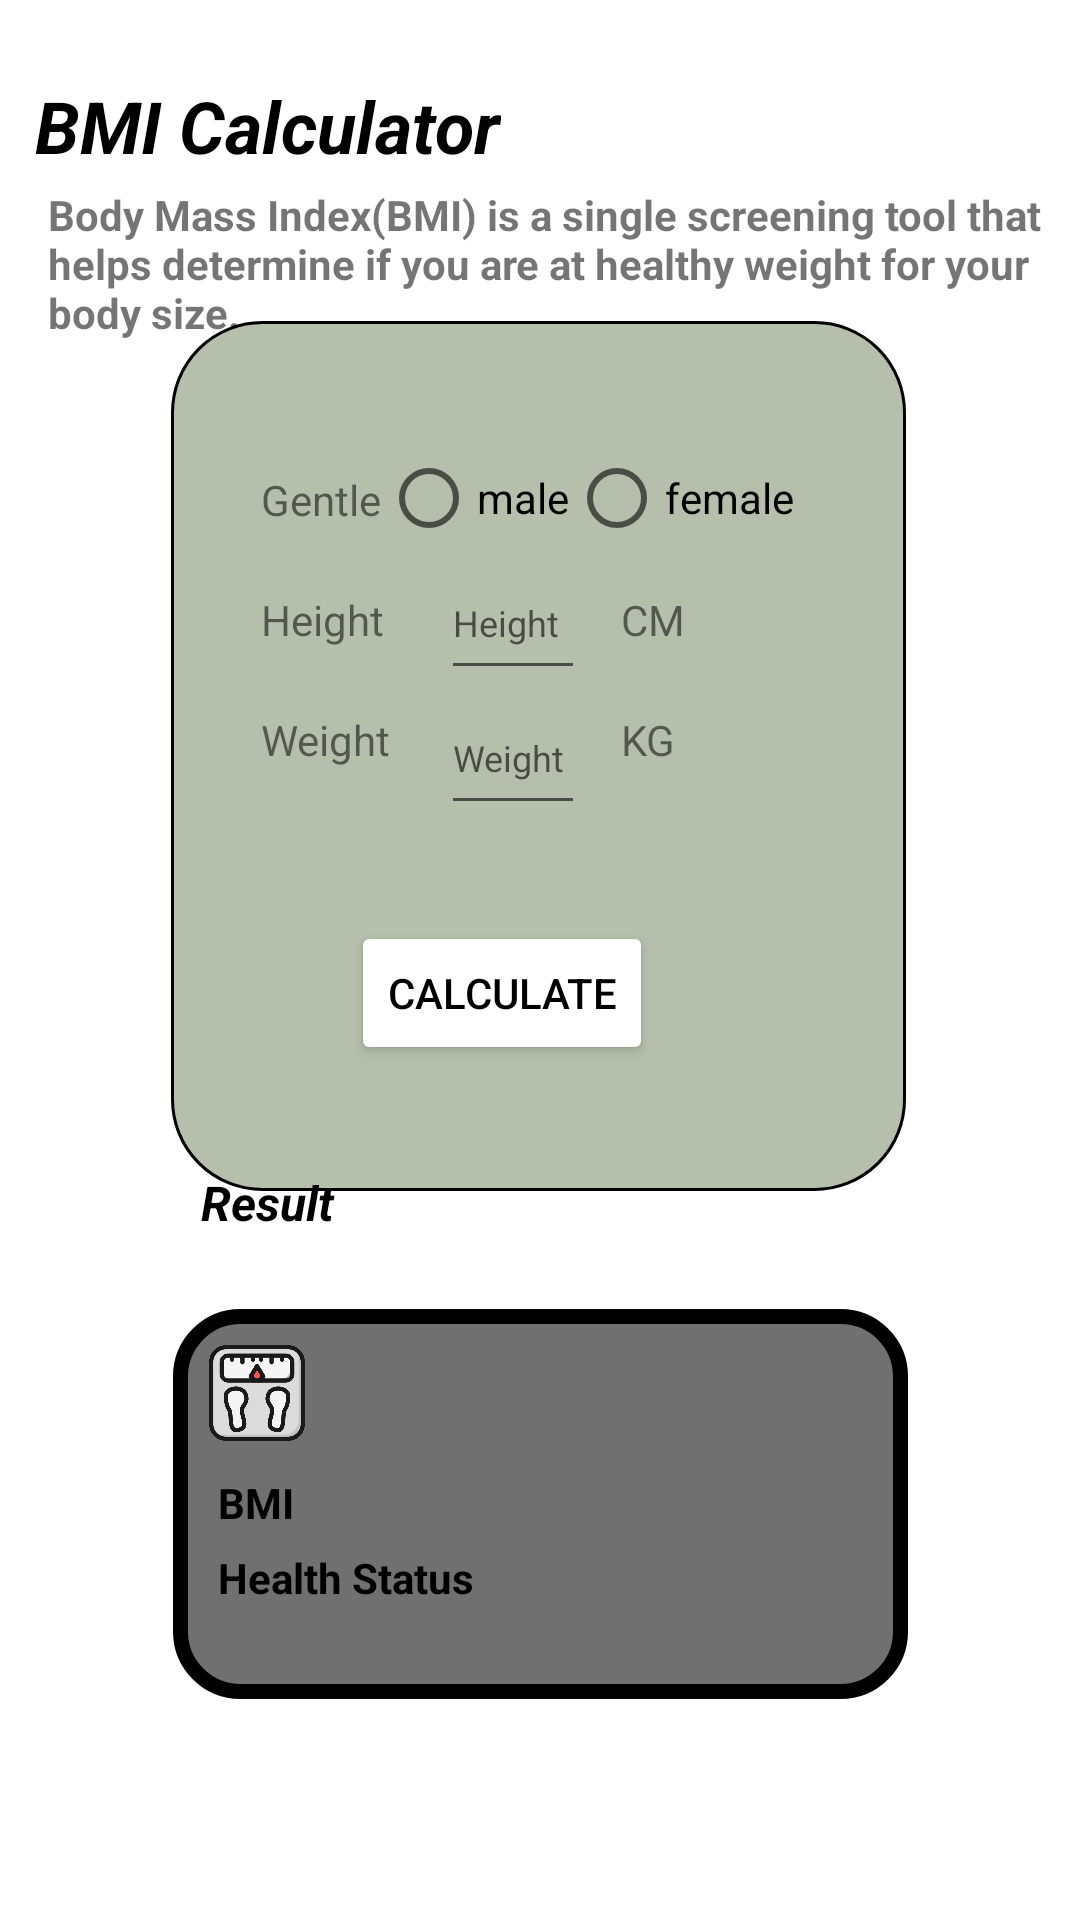

Screen size 1080 x 1920. Icon name, then its box in pixels as (x1, y1, x2, y2):
weight: (209, 1345, 305, 1441)
